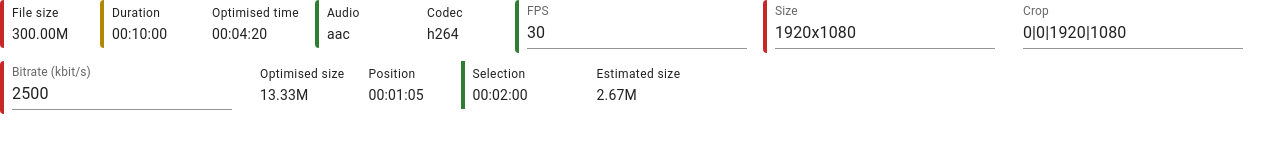
Test: InfoBar overrides (checklist 30, 31) › refuses an invalid edit and sends nothing
The image size is (1285, 160).
Replace the text in the field labelled "Crop" with "10|20|300" at (1133, 34), box [1023,20,1243,49]
Then press Enter
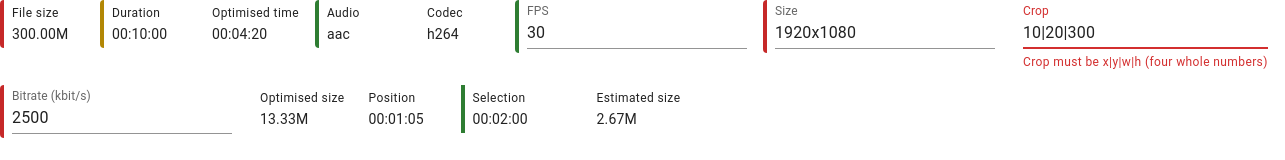
Expected: the text "Crop must be x|y|w|h (four whole numbers)" is shown, [1023,53,1268,73]
